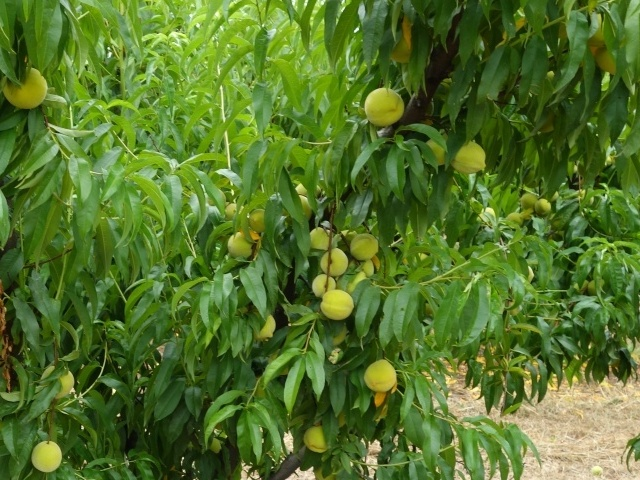peach: (1, 66, 49, 113), (363, 85, 406, 128), (450, 136, 489, 180), (362, 356, 398, 397), (29, 438, 64, 475), (321, 287, 355, 324), (41, 364, 76, 398), (421, 131, 453, 168), (224, 230, 256, 264), (301, 421, 333, 455), (345, 232, 381, 262), (316, 246, 349, 278), (251, 314, 283, 345), (305, 224, 335, 256), (309, 272, 338, 301), (245, 204, 271, 236), (516, 191, 540, 211), (533, 197, 554, 219)
